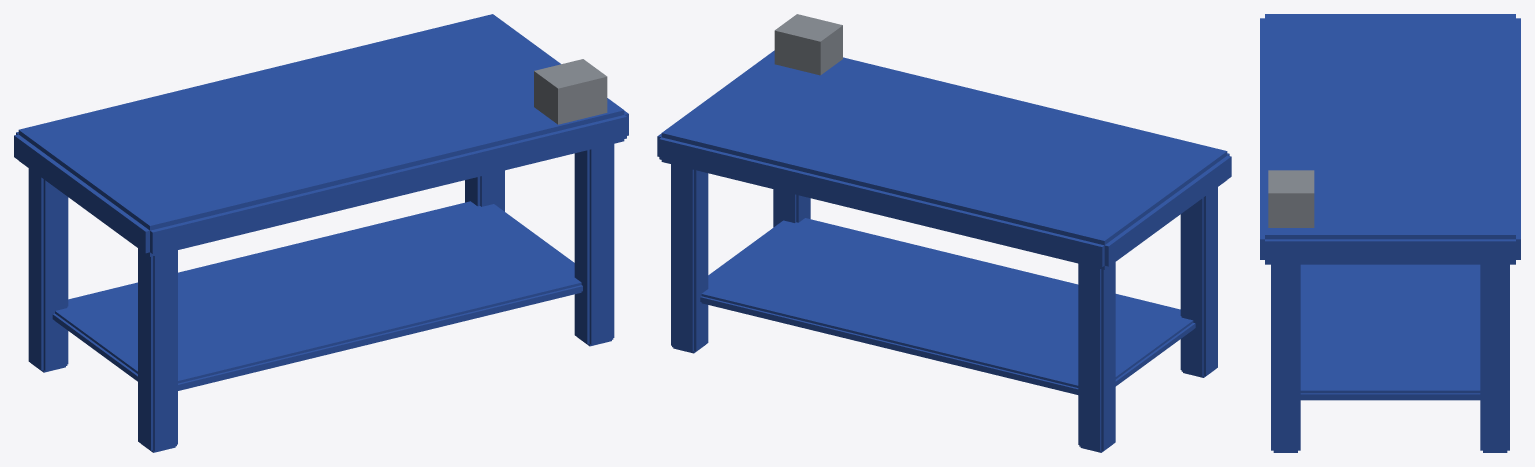
The model's file is mushroom_workbench_v0.glb.
The picture shows the model from 3 angles, left to right: view 1: azimuth 30°, elevation 25°; view 2: azimuth 150°, elevation 25°; view 3: azimuth 270°, elevation 25°; orthographic projection. The views are drawn at different scales.
Visible parts, largest first — view 1: mushroom_workbench_v0; view 2: mushroom_workbench_v0; view 3: mushroom_workbench_v0.
Boxes of the visible parts, x1,y1,x2,y2 form: mushroom_workbench_v0: [14, 14, 628, 452]; mushroom_workbench_v0: [657, 14, 1231, 452]; mushroom_workbench_v0: [1260, 14, 1520, 452].
Bounding box in the file's own units: 1.96 × 1.04 × 0.96.
